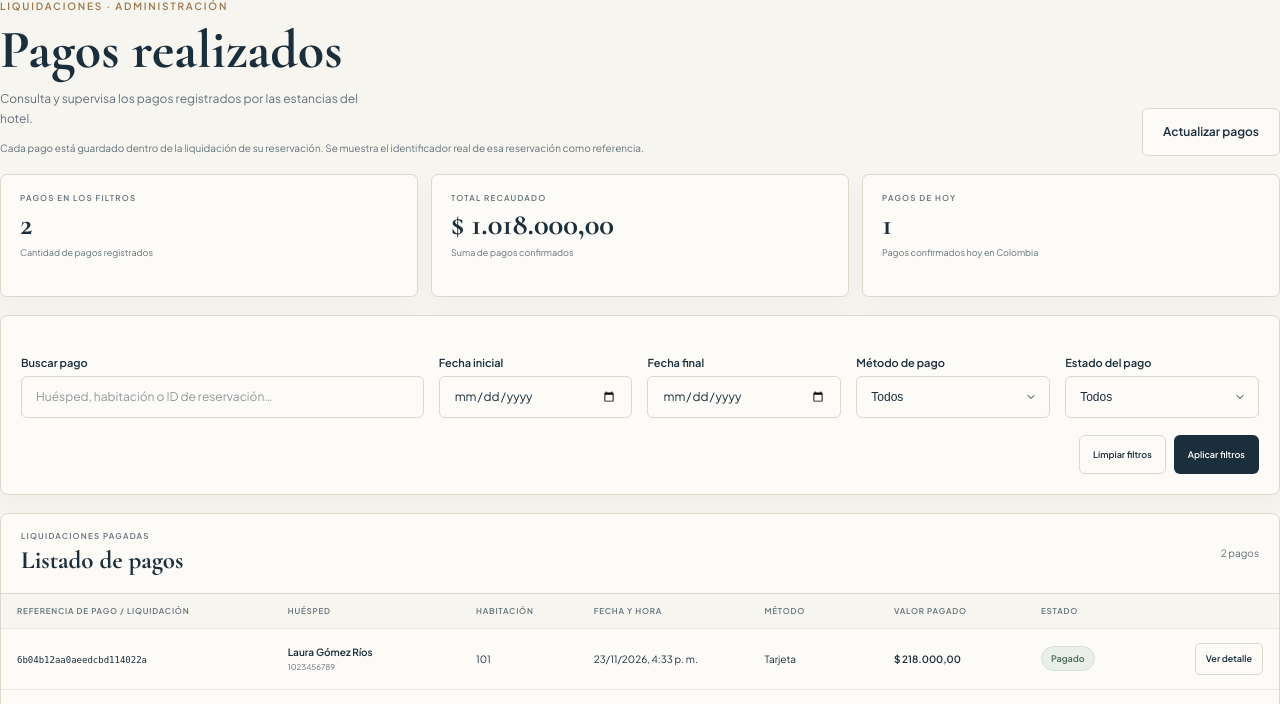
Test: PaymentsPage › abre el detalle del pago con la liquidación completa
The image size is (1280, 704).
Expected: the text "Laura Gómez Ríos" is shown, [288,646,373,658]
Click the button "Ver detalle" in the row of "6b04b12aa0aeedcbd114022a".
click(1229, 659)  # box [1195,643,1263,675]
(page scrolled)
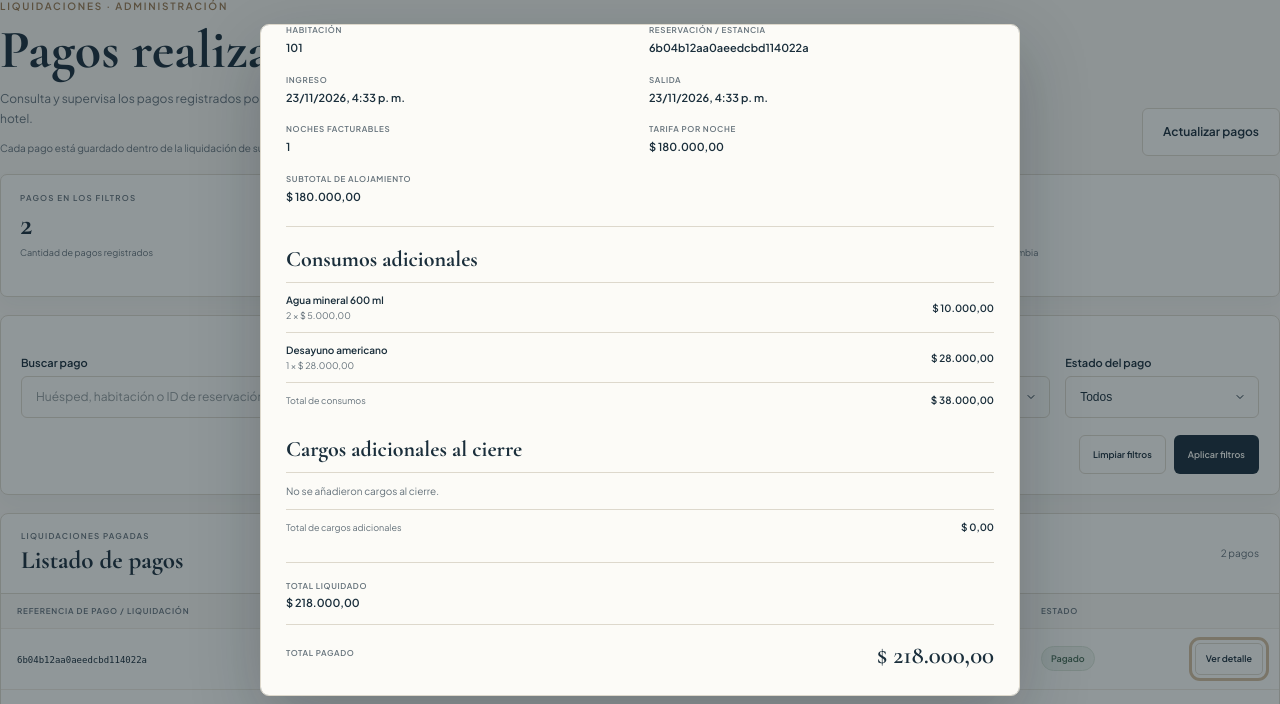
Result: the text "101" is shown at [286,41,302,54]
Result: the text "1" is shown at [286,140,290,153]
